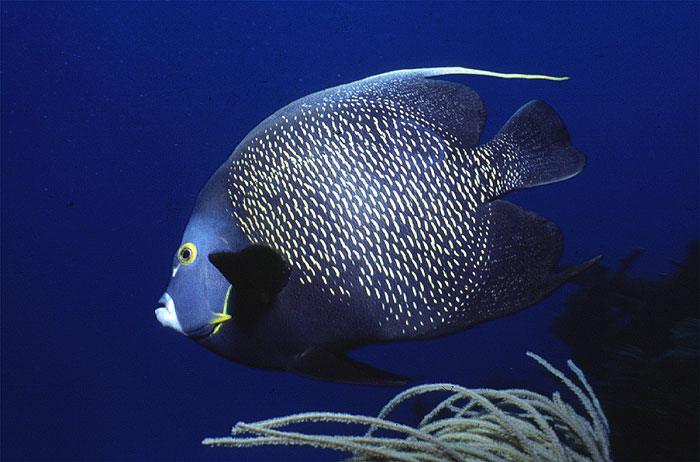Pomacanthus_paru: (125, 45, 593, 394)
